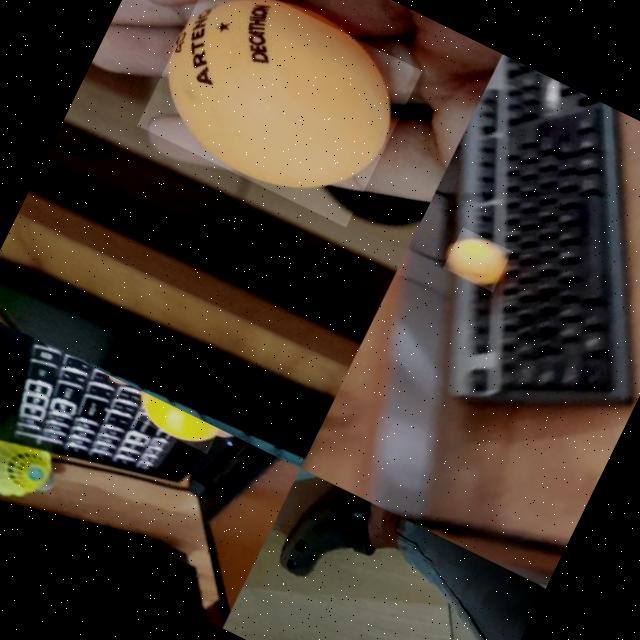ping-pong-ball: (134, 0, 421, 226), (130, 392, 218, 452), (442, 224, 512, 290)
